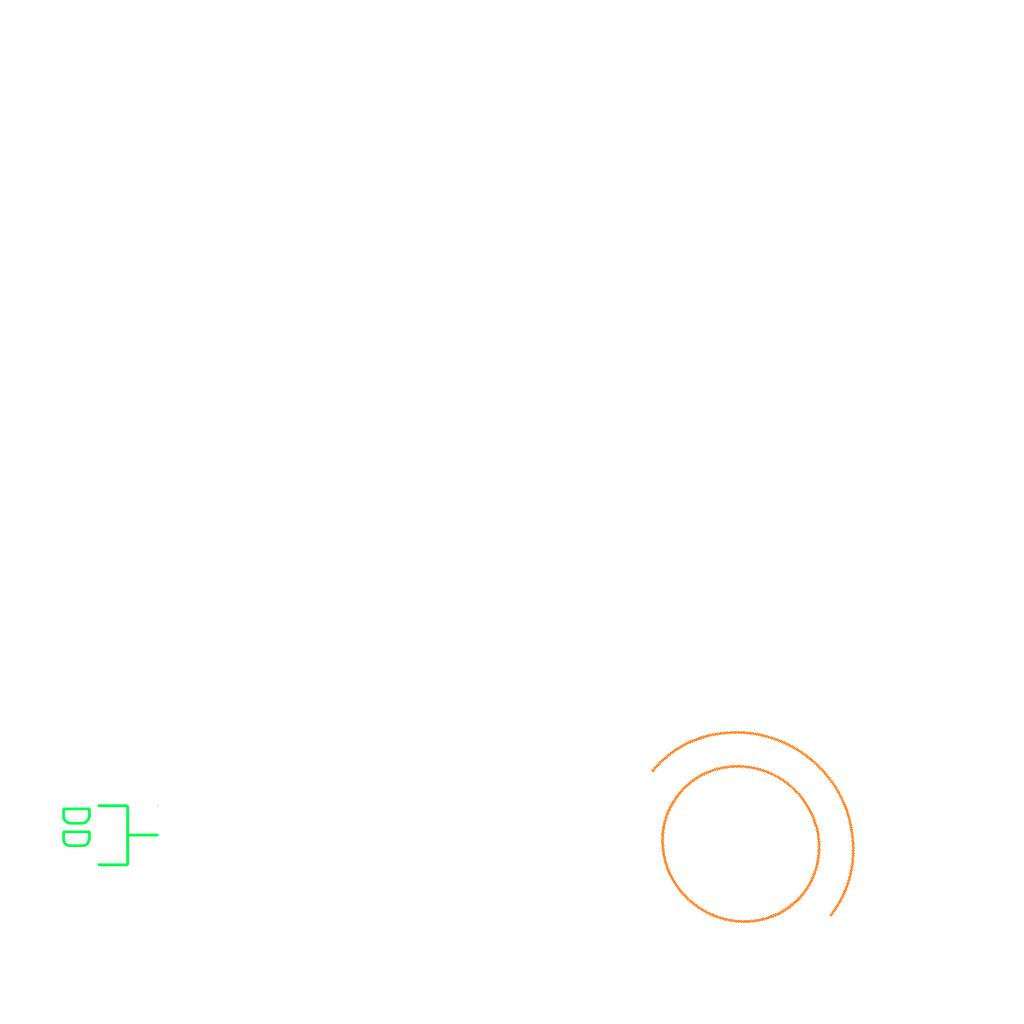Datenanschluss_zweifach: (58, 800, 161, 869)
Scheinwerfer_fuer_Alarmbeleuchtung: (568, 662, 916, 1003)
